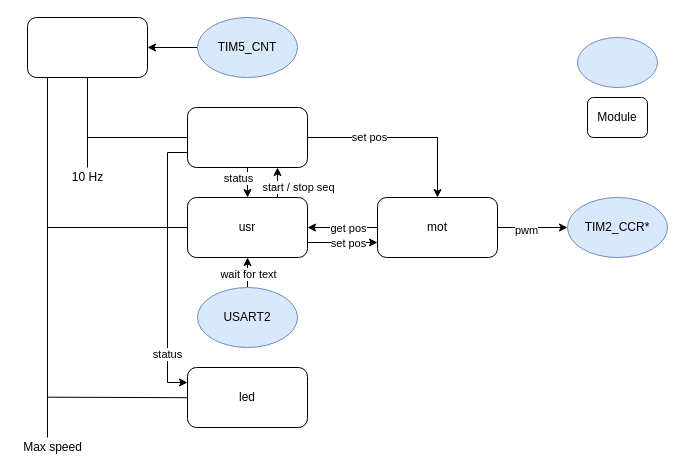
This 685x475 diagram has some shape labels left out. Here are the shapes that lost their labels. From the top down, the centre of each, then its label:
pixel 87 47: Executor
pixel 617 62: Hardware
pixel 247 137: seq
